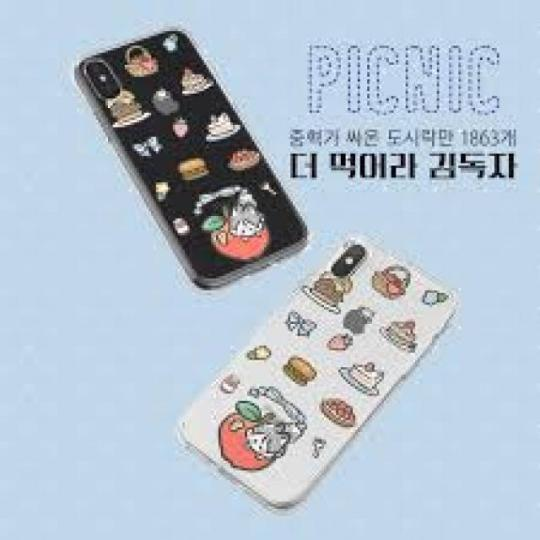phone: (168, 228, 499, 528), (58, 28, 318, 278)
